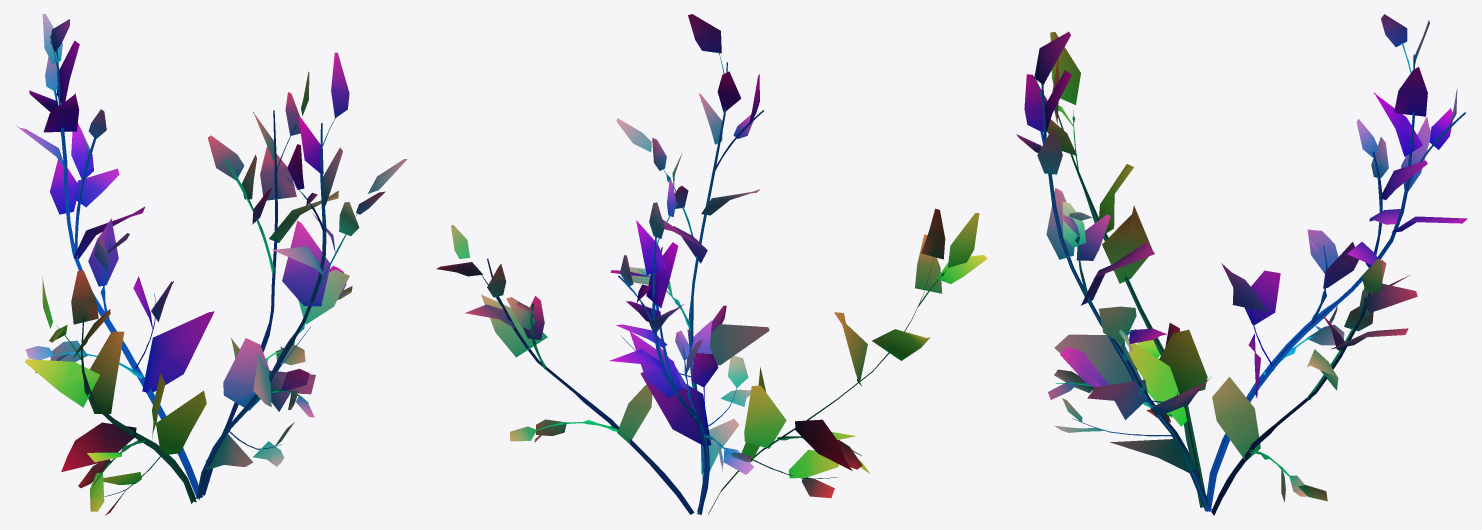
File: Creeping_Saltbush_thckfiqr_Mid_thckfiqr_VarC_LOD0.fbx
The picture shows the model from 3 angles, left to right: view 1: azimuth 30°, elevation 25°; view 2: azimuth 150°, elevation 25°; view 3: azimuth 270°, elevation 25°; orthographic projection. The views are drawn at different scales.
Visible parts, largest first — view 1: _4852_VarC_LOD1; view 2: _4852_VarC_LOD1; view 3: _4852_VarC_LOD1.
Part boxes in pixels (x1,y1,x2,y2): _4852_VarC_LOD1: [16, 14, 407, 515]; _4852_VarC_LOD1: [436, 14, 987, 514]; _4852_VarC_LOD1: [1016, 14, 1467, 515].
Size of the model in its own units: 35.67 by 38.86 by 30.65.
